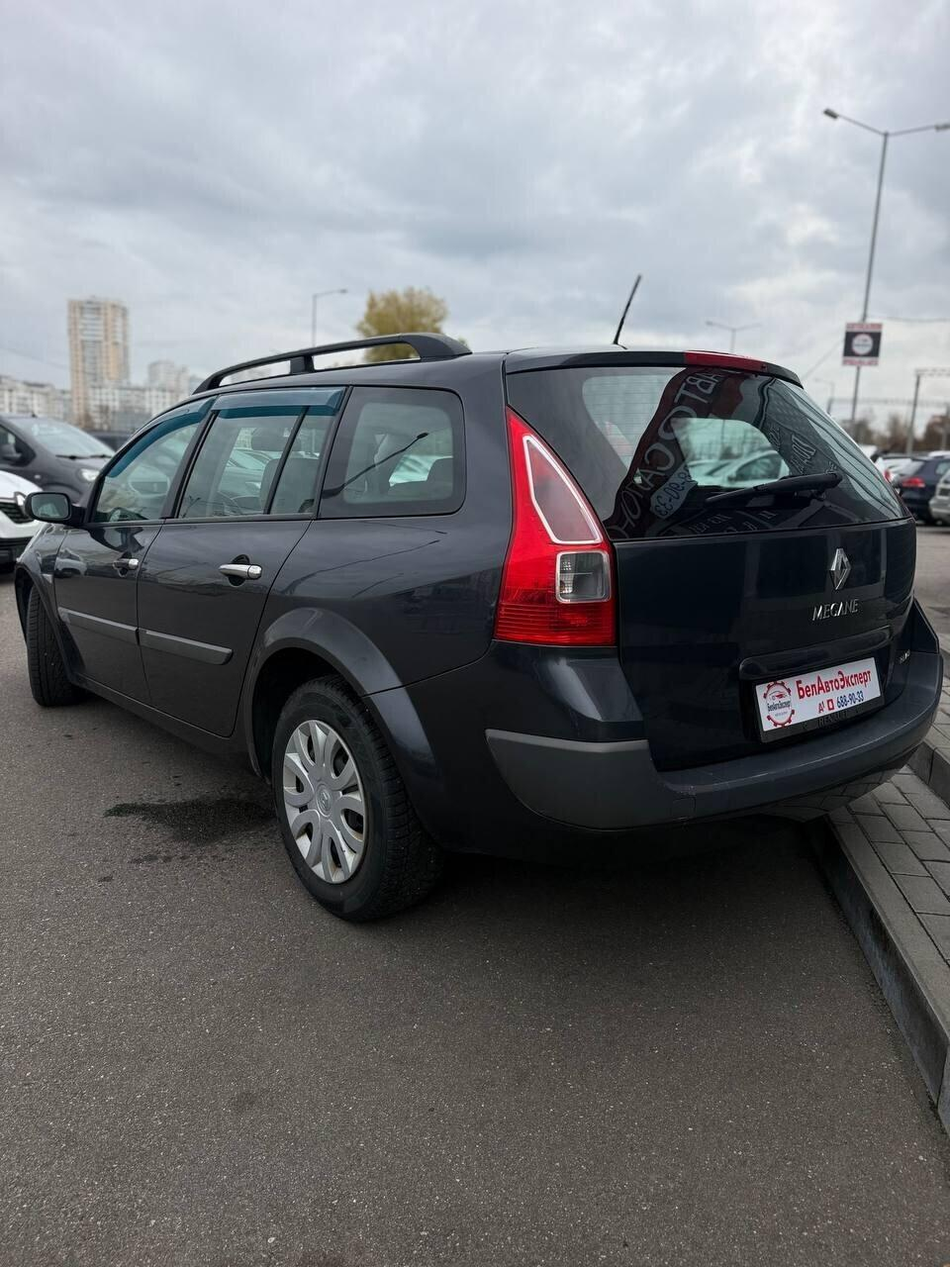Megane_2005-2009: (15, 345, 947, 919)
